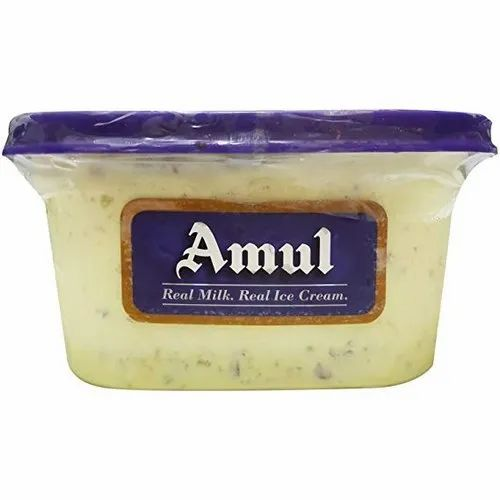Amul: (169, 221, 340, 279)
